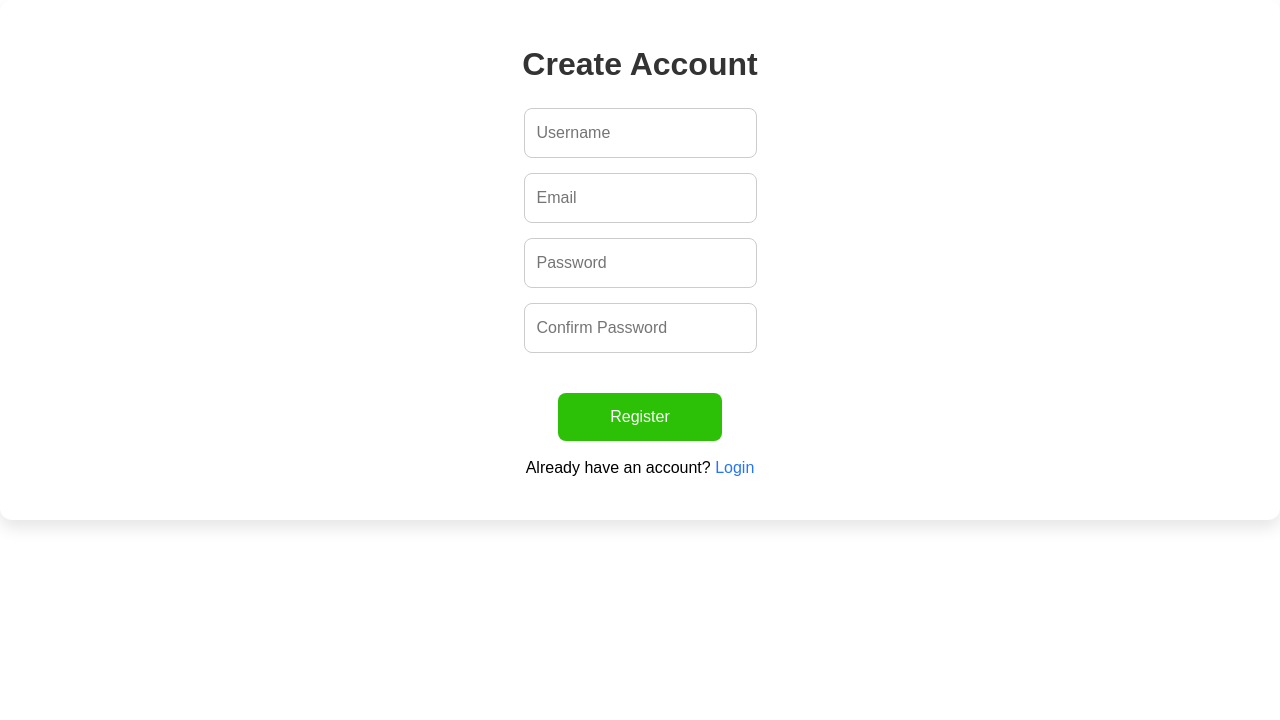
Test case: Register.vue › when registration fails › should display error message for passwords do not match
In the password field with placeholder "Password": (640, 263) [524,238,756,288], type "password123"
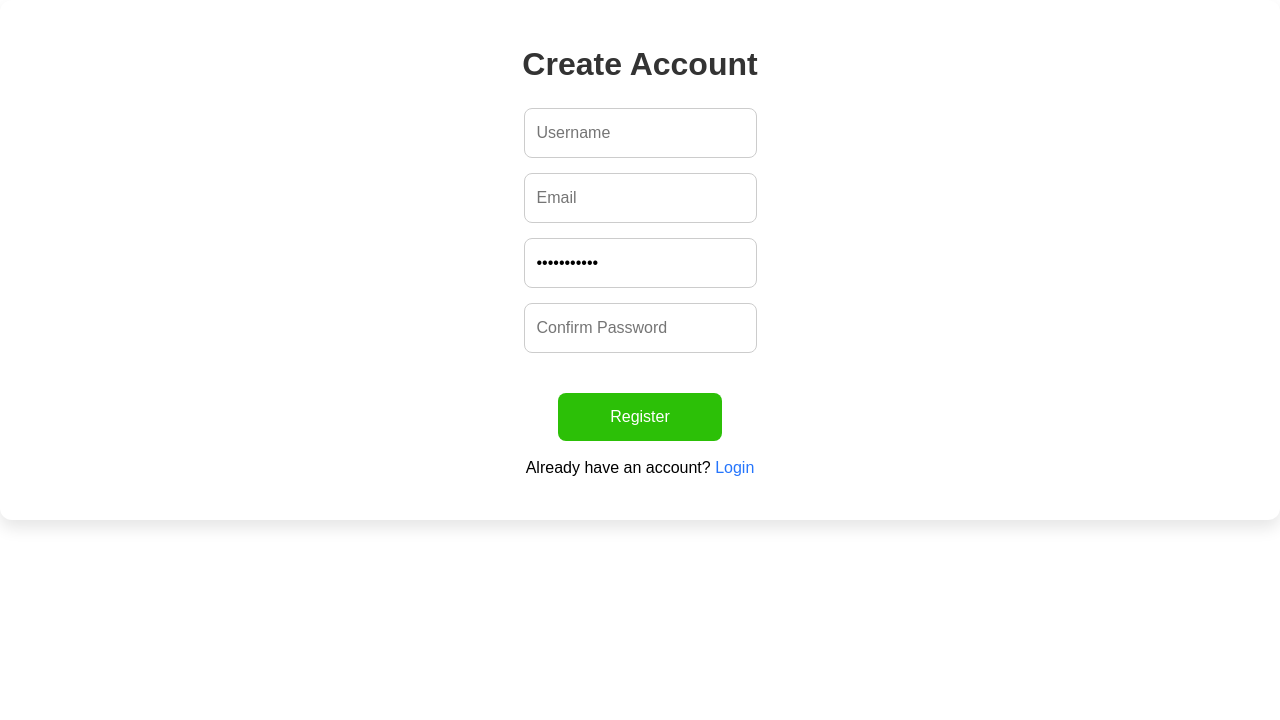
In the password field with placeholder "Confirm Password": (640, 328) [524,303,756,353], type "password456"
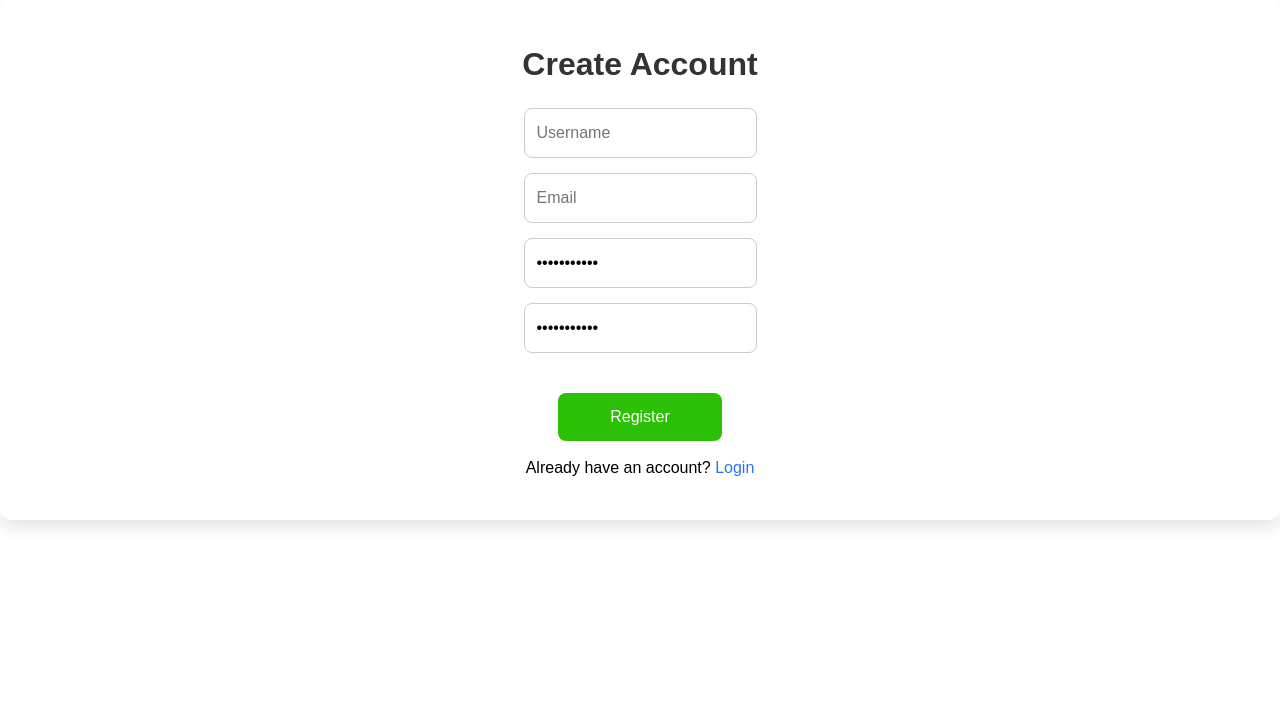
Submit the form, box [524,108,756,441]
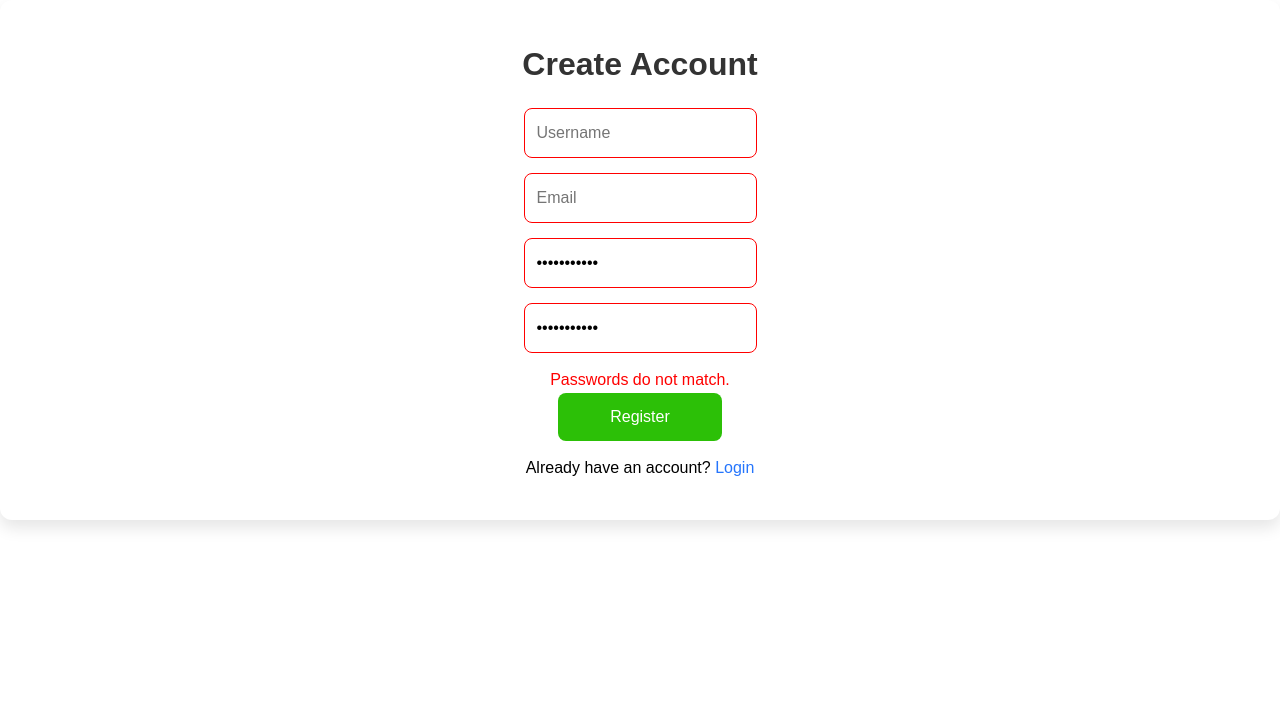
Expected: the text with class "error-message" reads "Passwords do not match.", [550,371,730,388]
